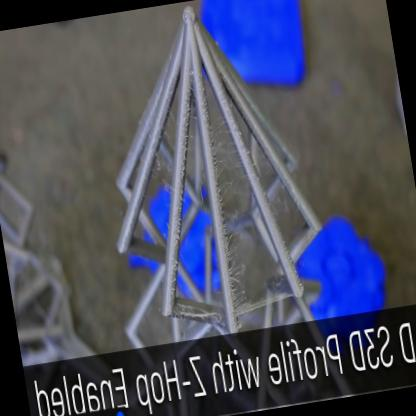fail: (210, 119, 249, 216), (221, 219, 262, 301), (178, 305, 224, 329)
